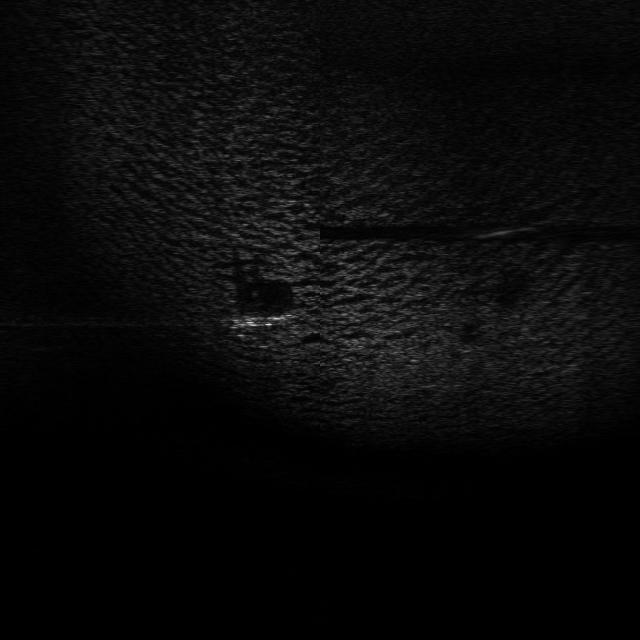plane: (224, 308, 298, 332)
